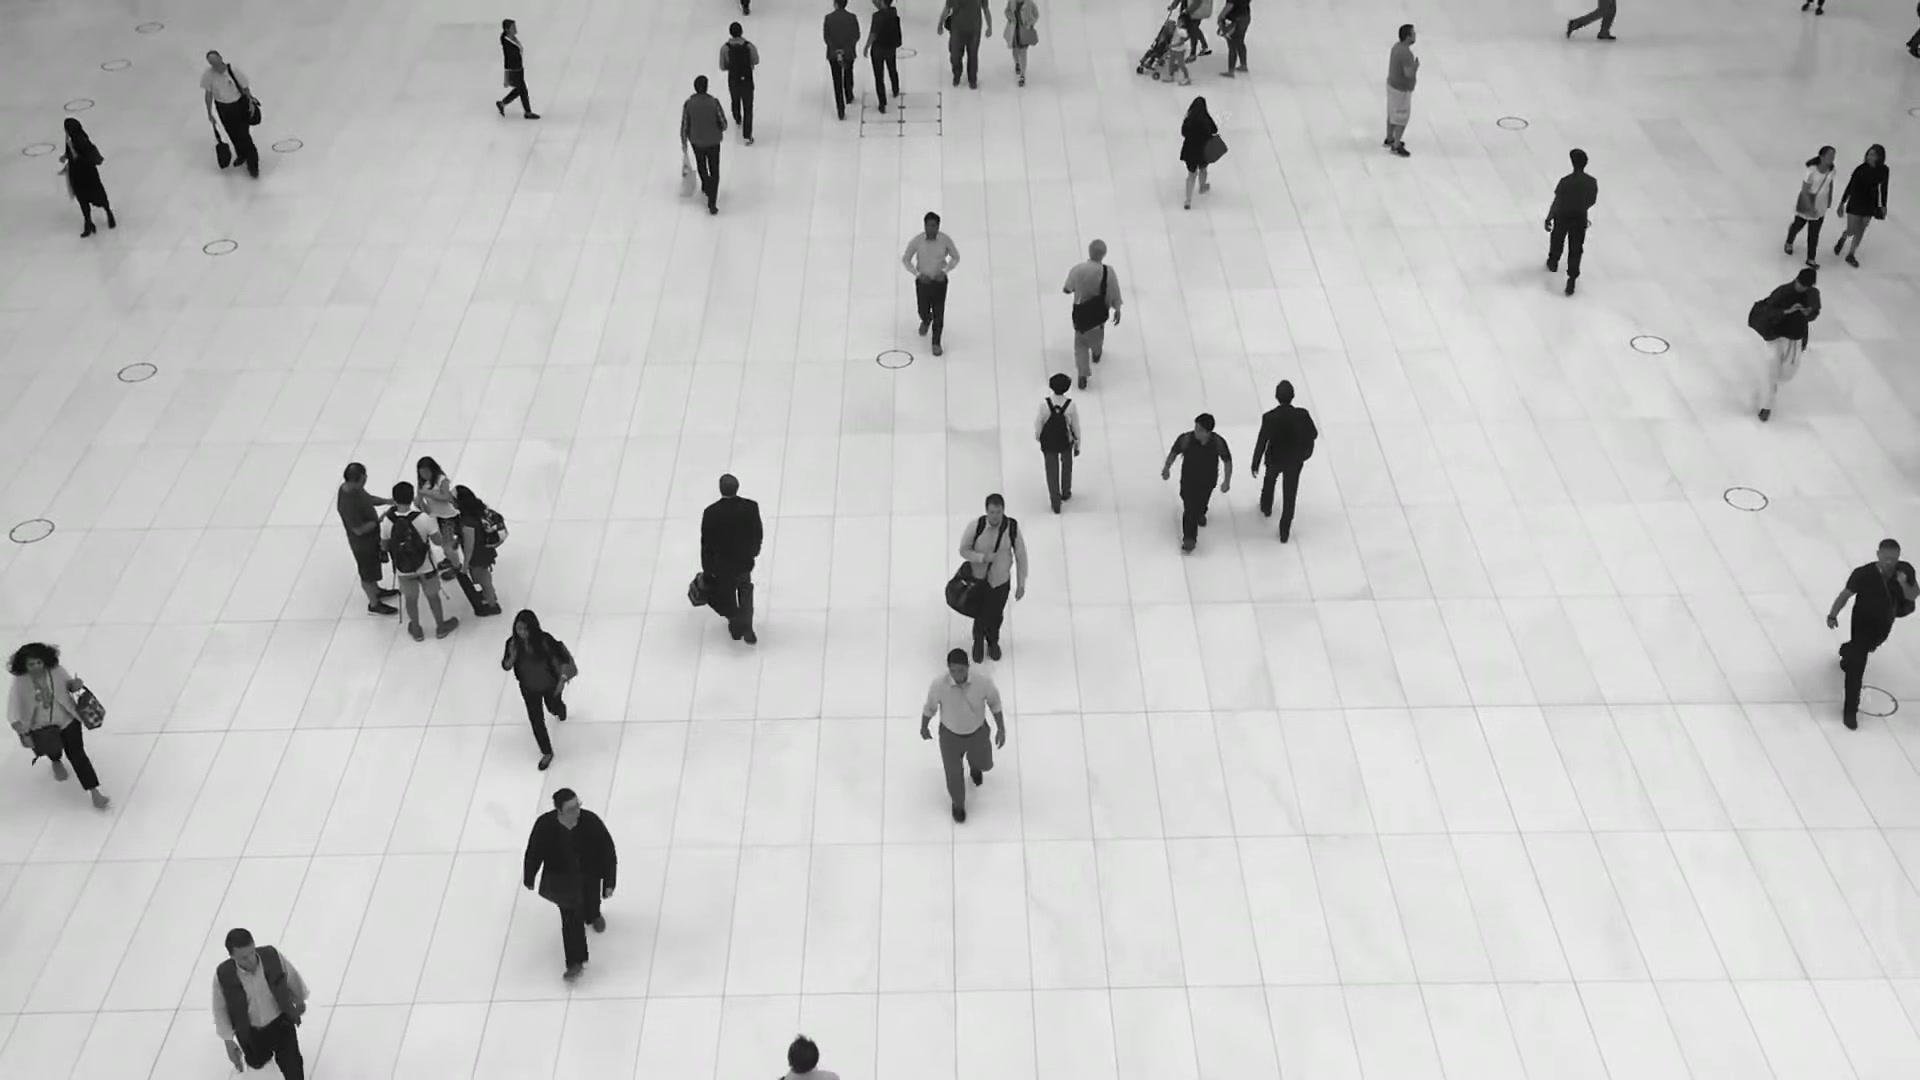person: (520, 786, 617, 978), (209, 921, 313, 1080), (1826, 533, 1918, 714), (4, 637, 103, 801), (921, 644, 1007, 816), (696, 474, 768, 657), (958, 494, 1028, 677), (379, 481, 459, 641), (501, 604, 579, 759), (1747, 266, 1822, 419), (1251, 384, 1317, 554), (1163, 411, 1230, 552), (336, 465, 400, 615), (900, 211, 960, 355), (1063, 239, 1122, 384), (1542, 146, 1599, 291), (1033, 376, 1082, 527), (200, 50, 258, 178), (449, 484, 502, 617), (61, 116, 118, 237), (1833, 143, 1888, 266), (1783, 143, 1837, 266), (678, 73, 727, 210), (1178, 94, 1228, 207), (717, 21, 761, 146), (1381, 24, 1421, 157), (492, 18, 544, 120), (417, 455, 459, 580), (822, 0, 860, 118), (864, 0, 902, 116), (1165, 13, 1191, 86)
